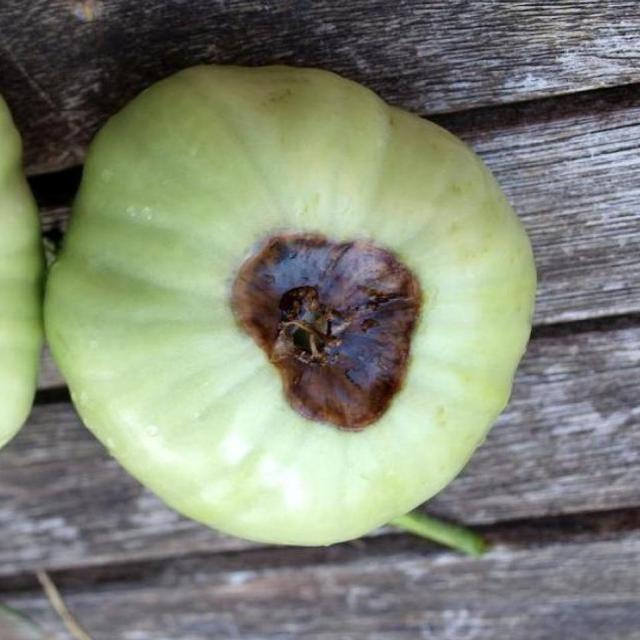Blossom End Rot Fruit: (148, 157, 285, 288)
